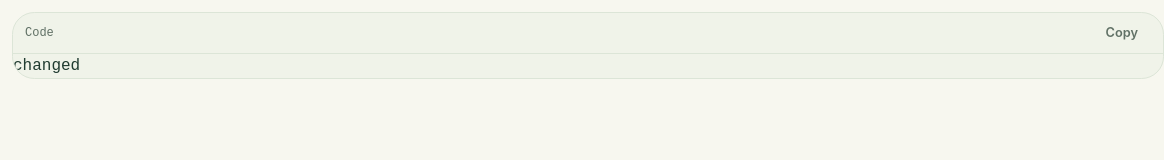
Test case: code copy preserves literal content, reports success and handles clipboard denial
Earlier steps of the test are not shown.
Click the button with aria-label "Copy code": (1122, 33) [1092, 17, 1151, 49]
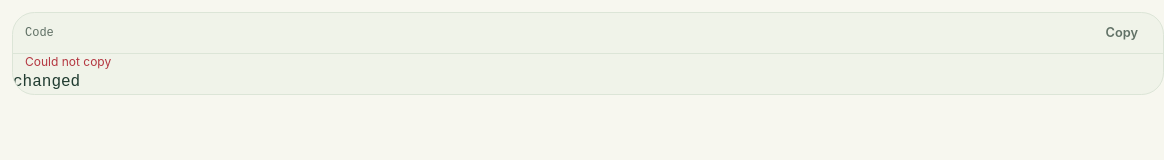
Expected: the text "changed" is shown, [13, 73, 80, 91]
Expected: the message reads "Could not copy", [25, 54, 111, 69]
